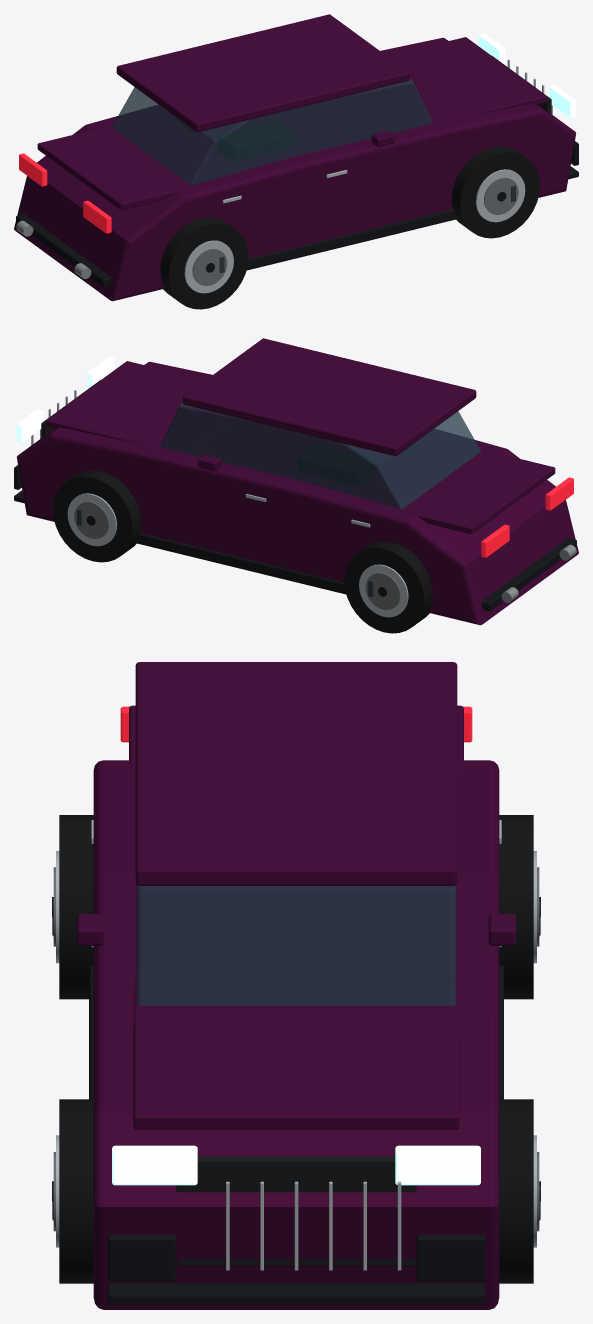
Rendered from chevy_equinox.glb.
The picture shows the model from 3 angles, top to bottom: view 1: azimuth 30°, elevation 25°; view 2: azimuth 150°, elevation 25°; view 3: azimuth 270°, elevation 25°; orthographic projection. The views are drawn at different scales.
Visible parts, largest first — view 1: sculpted_body, roof, glasshouse, hood_center, rear_deck, rear_right_wheel_tire, front_right_wheel_tire, side_skirt_1, seat_1, rear_diffuser, rear_right_wheel_rim, front_right_wheel_rim (+6 smaller); view 2: sculpted_body, roof, glasshouse, hood_center, rear_deck, rear_left_wheel_tire, front_left_wheel_tire, side_skirt_-1, seat_-1, rear_diffuser, rear_left_wheel_rim, front_left_wheel_rim (+6 smaller); view 3: sculpted_body, roof, hood_center, glasshouse, front_grille, front_splitter, front_left_wheel_tire, front_right_wheel_tire, rear_left_wheel_tire, rear_right_wheel_tire, headlight_right, headlight_left (+5 smaller).
Boxes of the visible parts, <box> form: sculpted_body: <box>14,38,576,301</box>; roof: <box>116,14,409,132</box>; glasshouse: <box>112,78,432,184</box>; hood_center: <box>358,37,546,129</box>; rear_deck: <box>37,126,190,210</box>; rear_right_wheel_tire: <box>160,217,248,309</box>; front_right_wheel_tire: <box>451,146,539,238</box>; side_skirt_1: <box>246,209,457,270</box>; seat_1: <box>218,121,294,161</box>; rear_diffuser: <box>16,214,111,287</box>; rear_right_wheel_rim: <box>184,240,233,293</box>; front_right_wheel_rim: <box>475,169,525,222</box>; sculpted_body: <box>16,362,578,625</box>; roof: <box>183,338,476,456</box>; glasshouse: <box>160,402,480,508</box>; hood_center: <box>46,361,234,453</box>; rear_deck: <box>402,450,555,534</box>; rear_left_wheel_tire: <box>344,541,432,633</box>; front_left_wheel_tire: <box>53,470,141,562</box>; side_skirt_-1: <box>135,533,346,594</box>; seat_-1: <box>298,445,374,485</box>; rear_diffuser: <box>481,538,576,611</box>; rear_left_wheel_rim: <box>359,564,408,617</box>; front_left_wheel_rim: <box>67,493,117,546</box>; sculpted_body: <box>93,760,499,1309</box>; roof: <box>135,662,457,885</box>; hood_center: <box>133,979,459,1129</box>; glasshouse: <box>136,885,456,1005</box>; front_grille: <box>176,1156,416,1266</box>; front_splitter: <box>107,1283,485,1305</box>; front_left_wheel_tire: <box>499,1099,533,1283</box>; front_right_wheel_tire: <box>59,1099,93,1283</box>; rear_left_wheel_tire: <box>499,815,533,999</box>; rear_right_wheel_tire: <box>59,815,93,999</box>; headlight_right: <box>112,1145,197,1185</box>; headlight_left: <box>395,1145,480,1185</box>.
Size of the model in its own units: 5.24 by 1.73 by 2.28.
